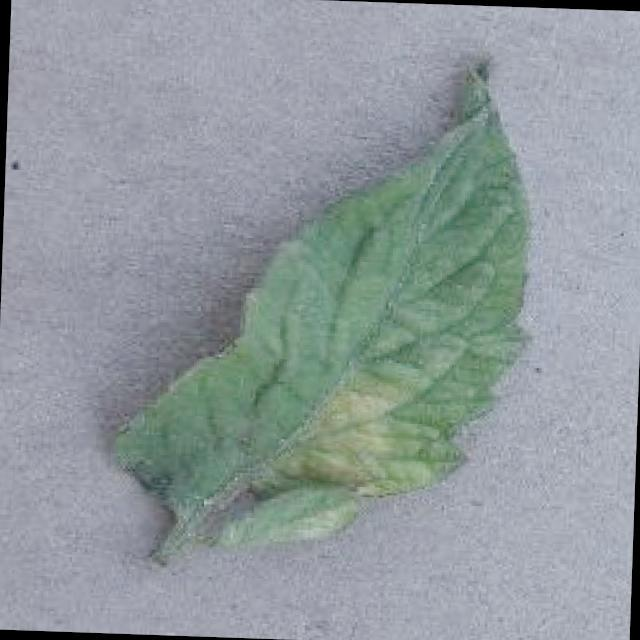Tomato mold leaf: (104, 49, 541, 558)
